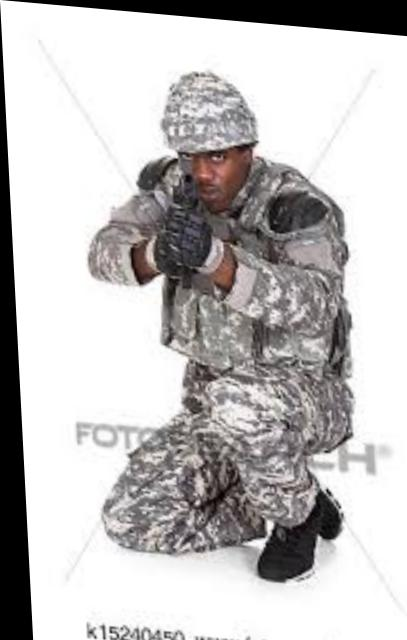other: (77, 56, 358, 583)
